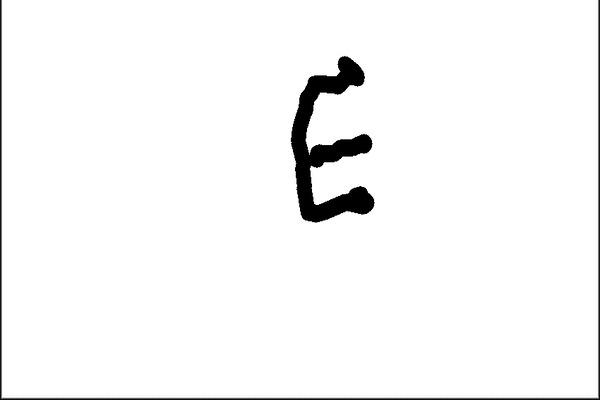E: (281, 48, 397, 233)
